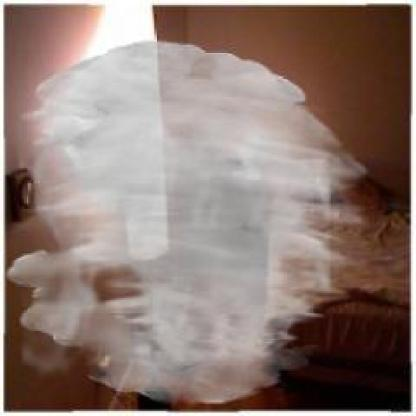Smoke: (6, 41, 374, 404)
